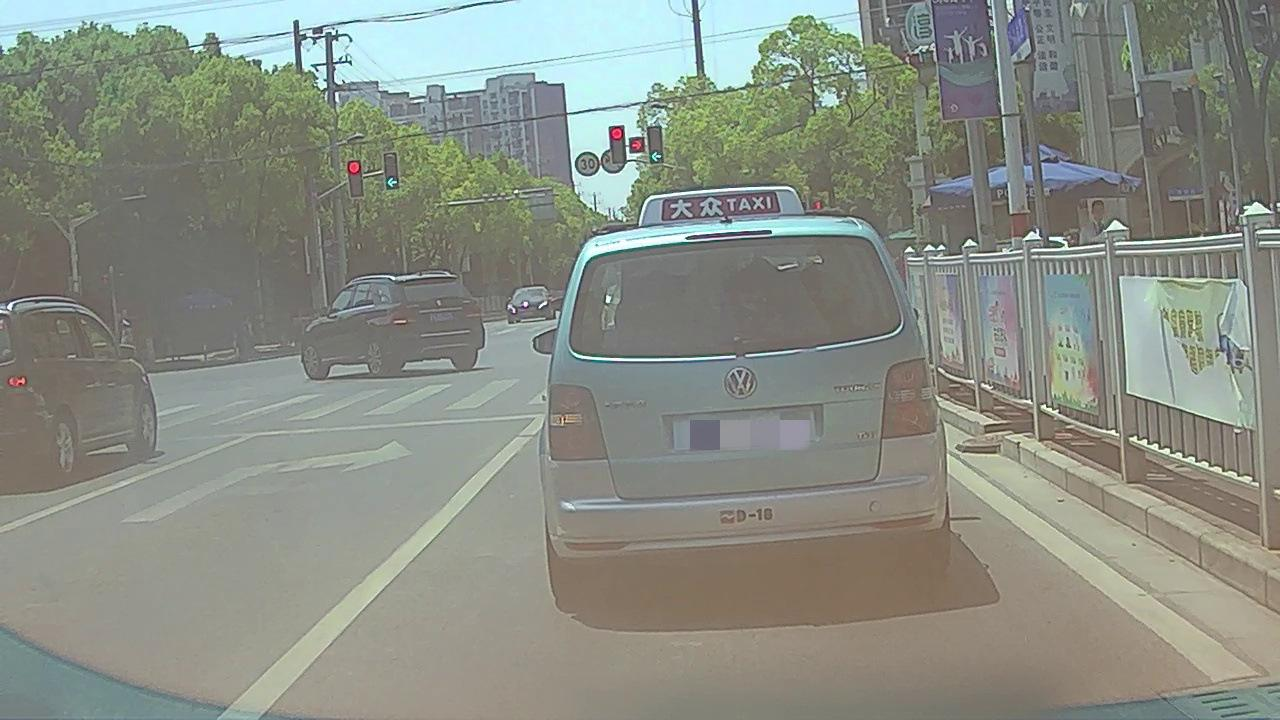traffic_light: (609, 126, 625, 163), (648, 127, 663, 162), (349, 161, 363, 197), (385, 153, 397, 188), (631, 137, 643, 152)
